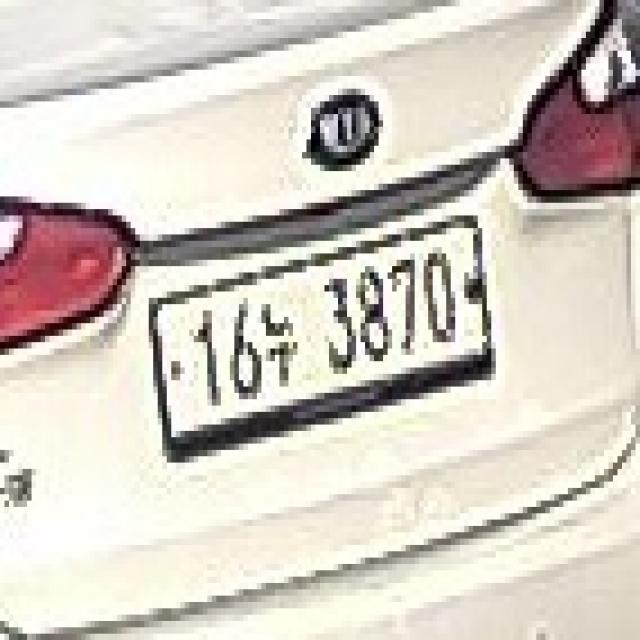0: (424, 241, 464, 355)
1: (190, 298, 226, 424)
3: (320, 273, 356, 380)
6: (225, 298, 266, 424)
7: (388, 247, 423, 361)
8: (356, 260, 392, 374)
license_plate: (140, 209, 505, 475)
nu: (262, 279, 306, 405)
